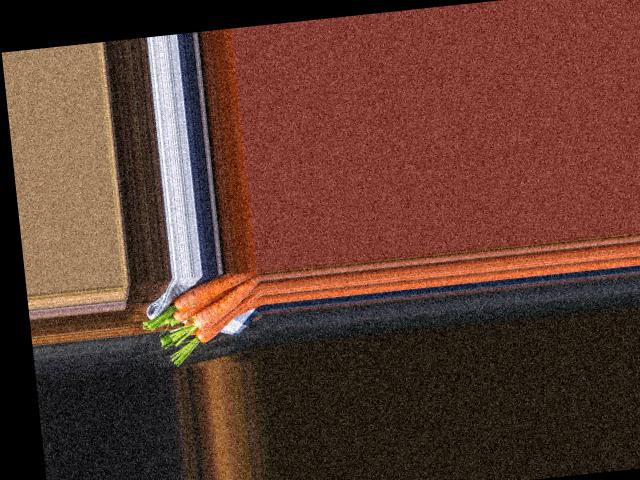carrot: (160, 269, 261, 313)
